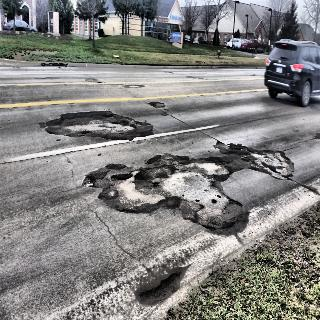pothole: (81, 138, 296, 235), (42, 105, 150, 143), (132, 264, 190, 306)
